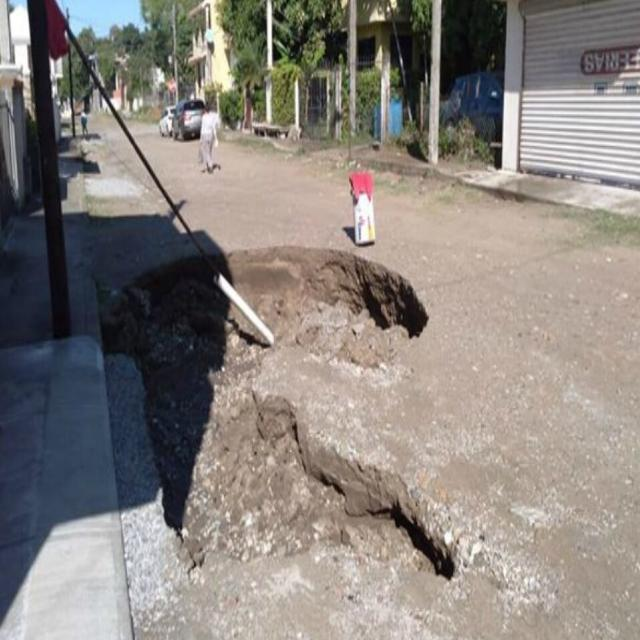Pothole: (96, 218, 493, 617)
